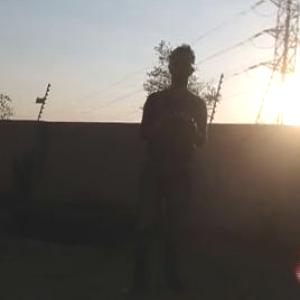follow: (112, 37, 208, 290)
